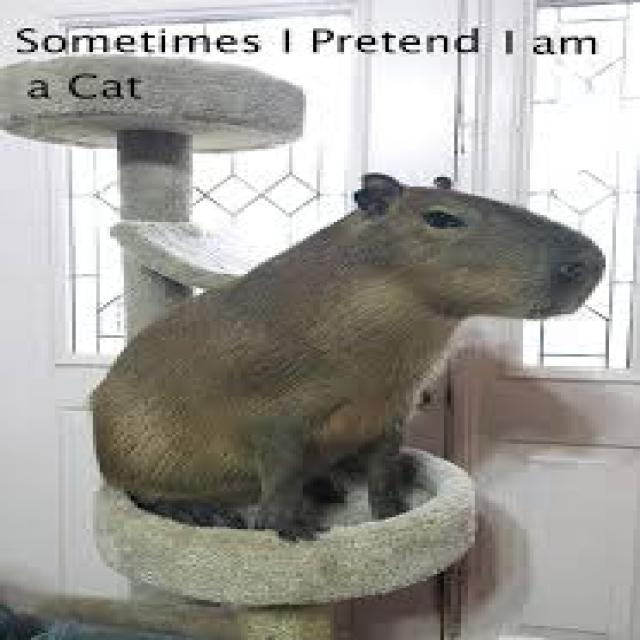capy: (87, 167, 608, 544)
